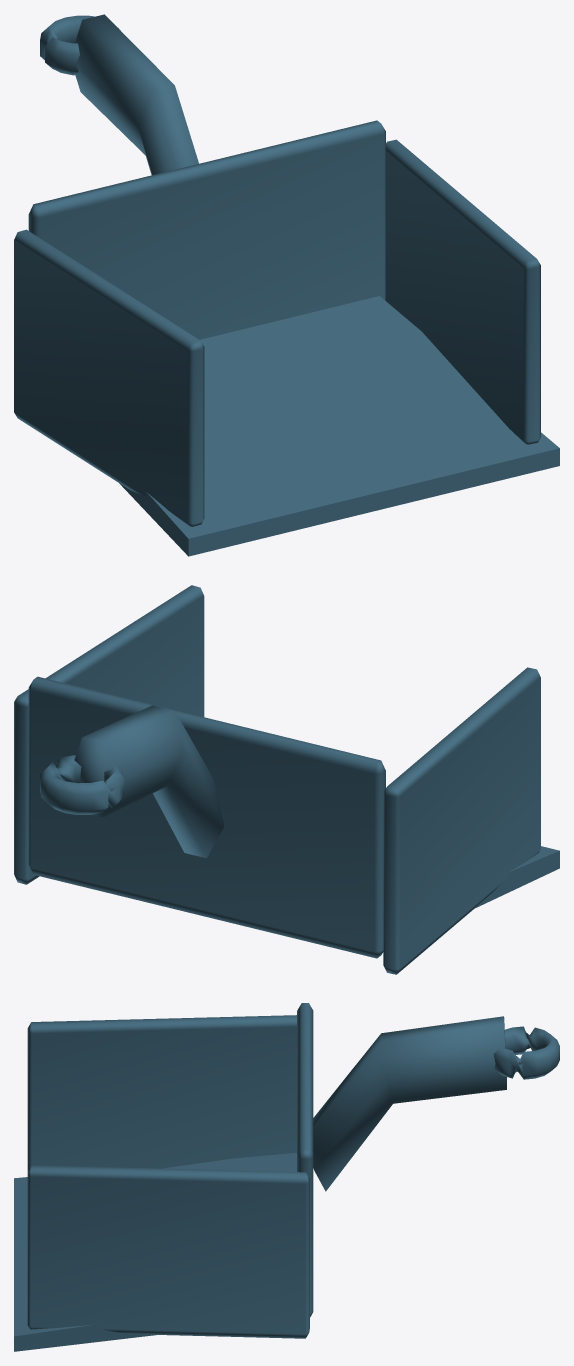
File: P099_dustpan_rebuilt.glb
3 views of the same model, one above another, from view 1: azimuth 30°, elevation 25°; view 2: azimuth 150°, elevation 25°; view 3: azimuth 270°, elevation 25° (orthographic). The views are drawn at different scales.
Visible parts, largest first — view 1: blue; view 2: blue; view 3: blue.
Part boxes in pixels (left/top/right/bottom): blue: left=14, top=14, right=559, bottom=556; blue: left=14, top=585, right=559, bottom=974; blue: left=14, top=1003, right=559, bottom=1351.
Size of the model in its own units: 0.241 by 0.172 by 0.338.
